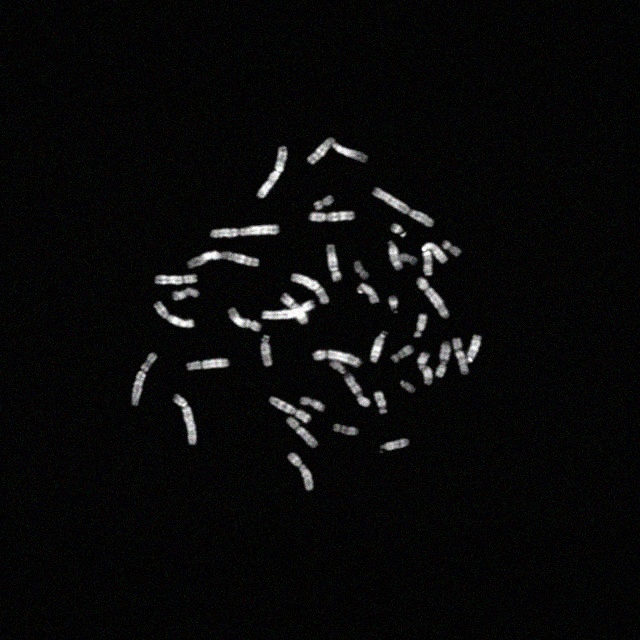chromosome: (369, 184, 435, 230), (305, 136, 371, 166), (331, 360, 372, 408), (256, 144, 288, 198), (186, 249, 262, 271), (416, 276, 452, 320), (130, 352, 158, 408), (268, 394, 312, 424), (153, 300, 195, 330), (210, 222, 278, 240), (291, 272, 329, 304), (174, 396, 198, 446), (286, 452, 314, 491), (262, 301, 316, 321), (421, 240, 449, 278), (286, 416, 318, 448), (312, 348, 362, 368), (280, 291, 308, 325), (227, 304, 261, 332), (452, 336, 471, 376), (325, 242, 343, 284), (308, 210, 358, 223), (368, 330, 388, 362), (416, 352, 434, 386), (435, 340, 451, 378), (386, 240, 404, 270), (466, 333, 482, 365), (378, 439, 410, 455), (156, 274, 198, 286), (186, 358, 228, 370), (357, 283, 379, 305), (392, 343, 416, 363), (443, 238, 465, 258), (301, 394, 325, 412), (374, 390, 390, 416), (352, 258, 370, 280), (260, 336, 272, 366), (312, 196, 336, 210), (390, 254, 418, 266), (332, 424, 360, 436), (390, 221, 408, 239), (398, 378, 416, 396), (414, 312, 426, 338), (174, 288, 198, 300), (388, 297, 399, 315)
